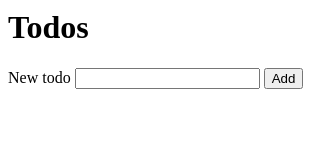
Test case: App › gives each todo a real checkbox labelled by its text, unchecked by default
In the field labelled "New todo": (167, 78) x1=75 y1=68 x2=260 y2=89, type "Buy milk"
Then press Enter
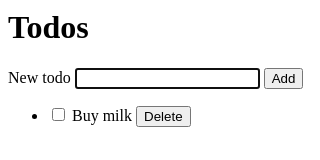
Check: the checkbox labelled "Buy milk" is not checked, box x1=52 y1=108 x2=65 y2=121
